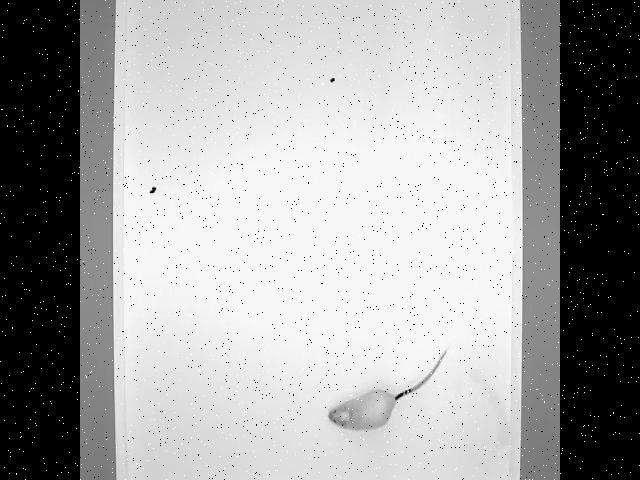Tikus: (326, 340, 448, 433)
